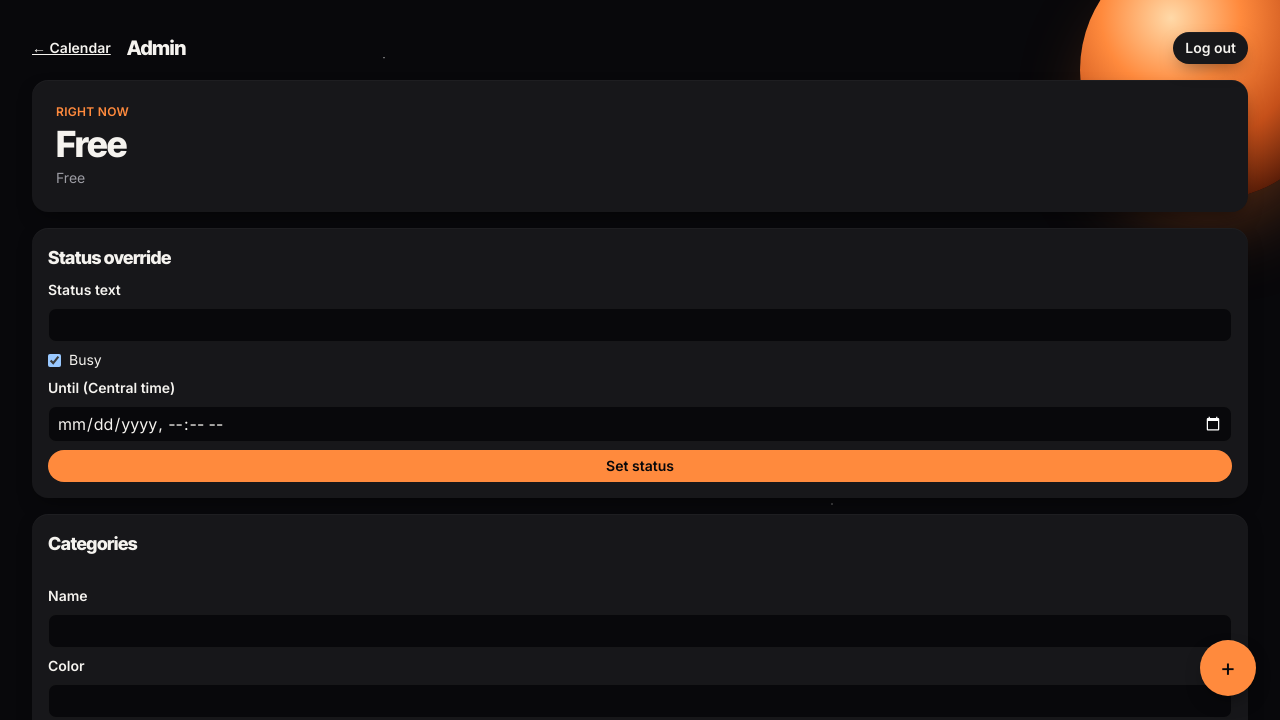
Scenario: AdminApp › shows an error and stays authenticated when logout fails
The image size is (1280, 720).
Click the button "Log out". click: point(1211, 48)
box: 1173,32 -> 1248,64
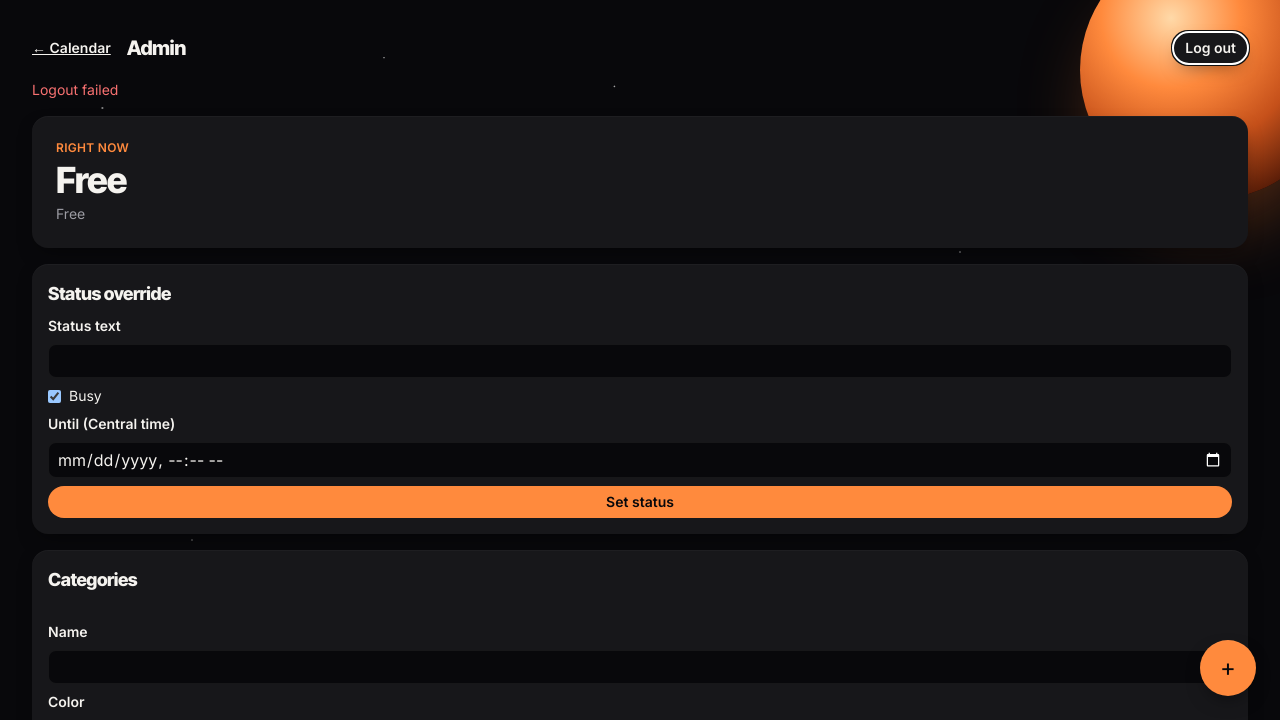
Expected: the text "Logout failed" is shown, 32,81 -> 118,98
